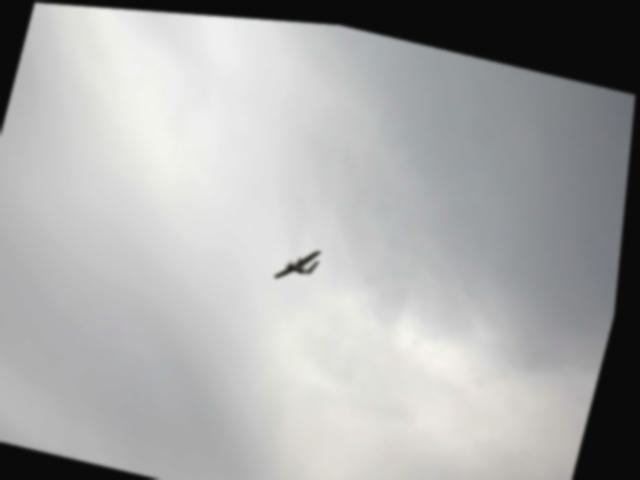plane: (278, 237, 326, 284)
